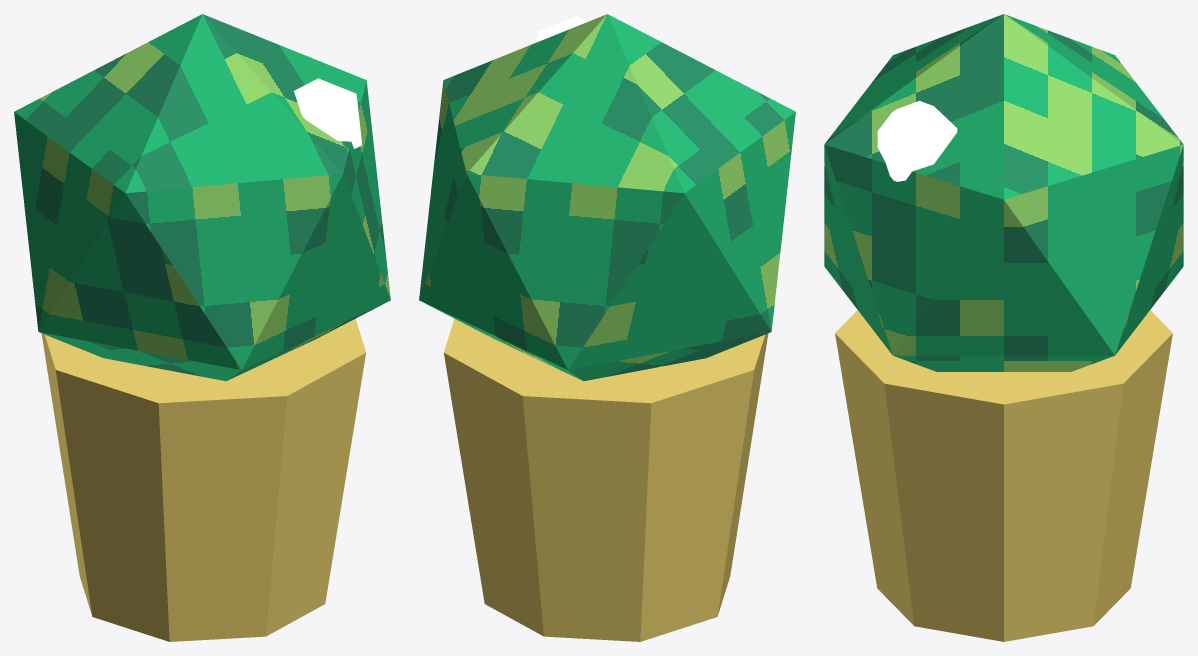
The model's file is movel_r04_09.glb.
3 views of the same model, side by side, from view 1: azimuth 30°, elevation 25°; view 2: azimuth 150°, elevation 25°; view 3: azimuth 270°, elevation 25° (orthographic).
Visible parts, largest first — view 1: movel_r04_09; view 2: movel_r04_09; view 3: movel_r04_09.
Part boxes in pixels (x1,y1,x2,y2): movel_r04_09: (14, 14, 390, 641); movel_r04_09: (419, 14, 795, 641); movel_r04_09: (824, 14, 1183, 641).
Size of the model in its own units: 0.5367 by 0.9 by 0.5104.
3 materials, 1 textured.
